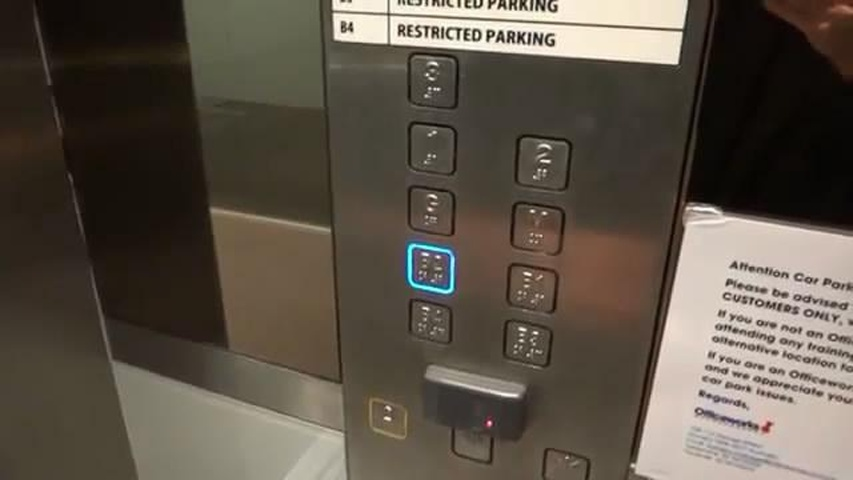1: (407, 120, 458, 176)
2: (513, 133, 573, 193), (368, 395, 408, 441)
3: (405, 51, 459, 111)
G: (407, 184, 456, 239)
M: (511, 201, 566, 256)
blur: (506, 261, 559, 315), (407, 242, 458, 297), (503, 317, 554, 370), (406, 297, 455, 346), (450, 427, 498, 465)
close: (540, 447, 592, 480)
